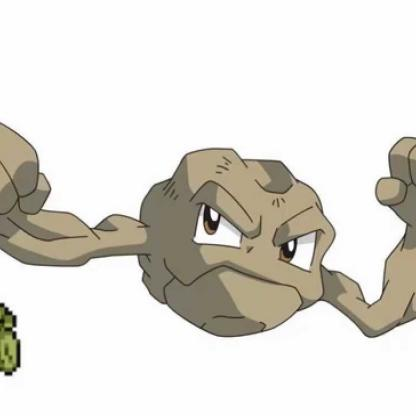Geodude: (1, 1, 416, 413)
